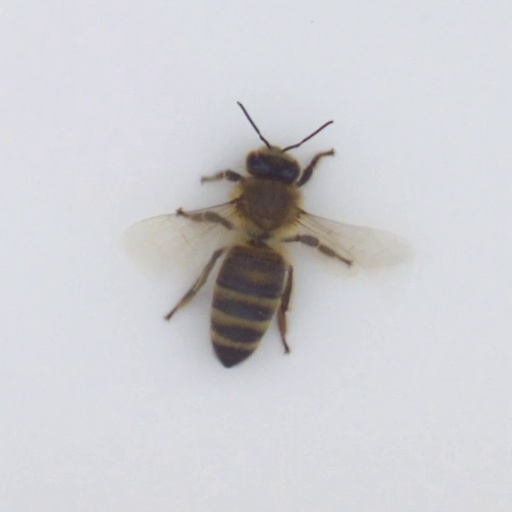Bee: (184, 136, 314, 389)
Thorax: (233, 174, 297, 240)
